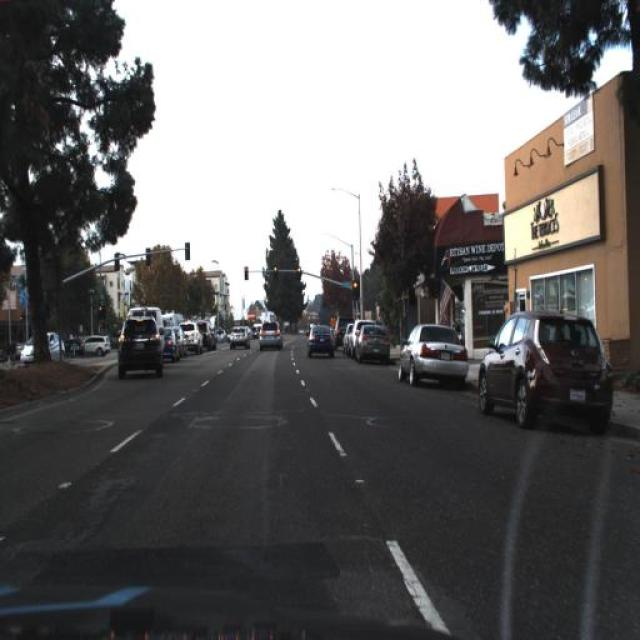car: (470, 303, 616, 439), (391, 316, 470, 392), (116, 313, 165, 382), (354, 322, 390, 368), (356, 324, 390, 364), (78, 325, 111, 363), (305, 322, 336, 362), (178, 318, 206, 359), (78, 328, 112, 360), (332, 308, 353, 354), (257, 317, 284, 351), (80, 333, 110, 359), (228, 321, 252, 349), (331, 316, 351, 349), (198, 317, 218, 348), (183, 322, 202, 353), (230, 329, 248, 350)
